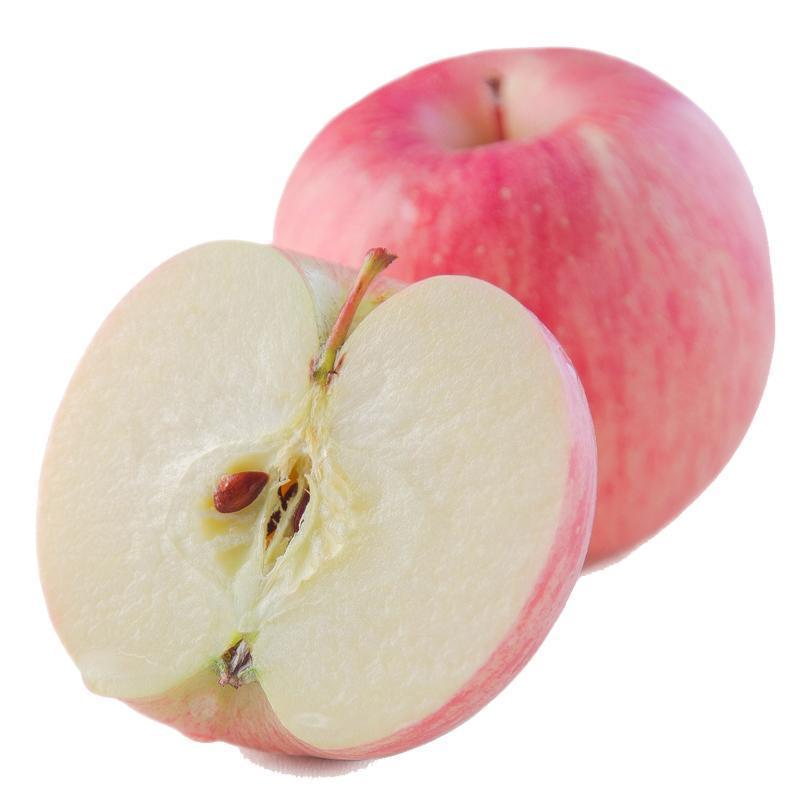apple: (267, 44, 778, 578)
